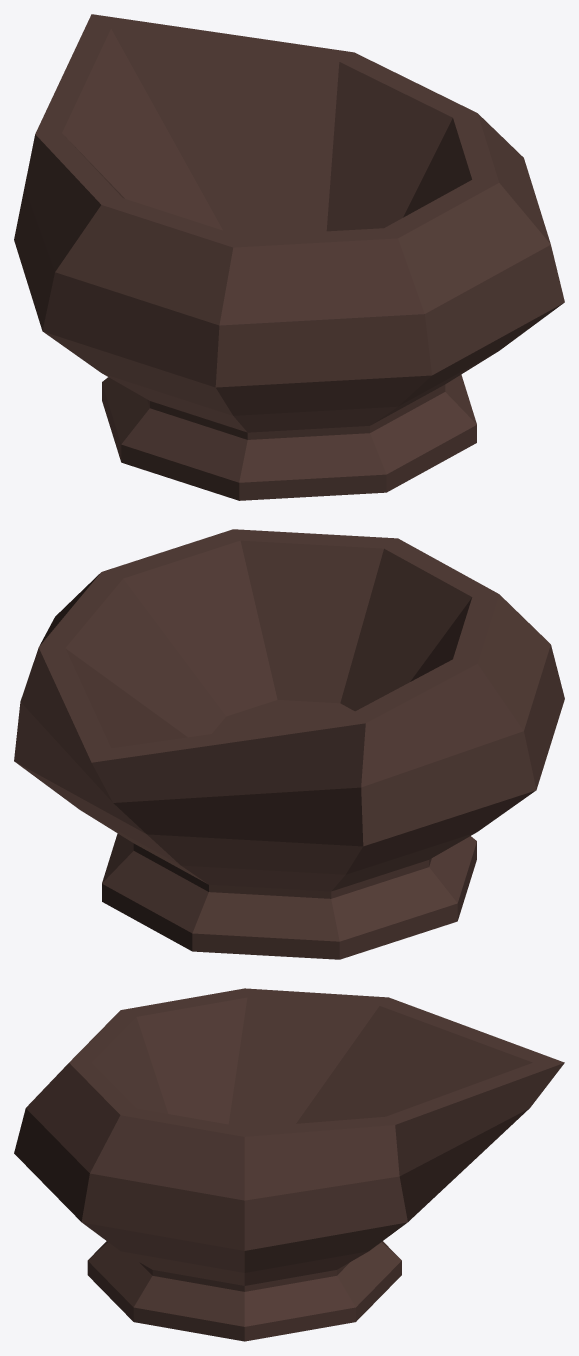
File: Diya.fbx
3 renders of one model, top to bottom at view 1: azimuth 30°, elevation 25°; view 2: azimuth 150°, elevation 25°; view 3: azimuth 270°, elevation 25°, orthographic. The views are drawn at different scales.
Visible parts, largest first — view 1: Diya; view 2: Diya; view 3: Diya.
Part boxes in pixels (left/top/right/bottom): Diya: left=14, top=14, right=564, bottom=500; Diya: left=14, top=529, right=564, bottom=959; Diya: left=14, top=988, right=564, bottom=1341.
Bounding box in the file's own units: 101 × 51.24 × 120.
